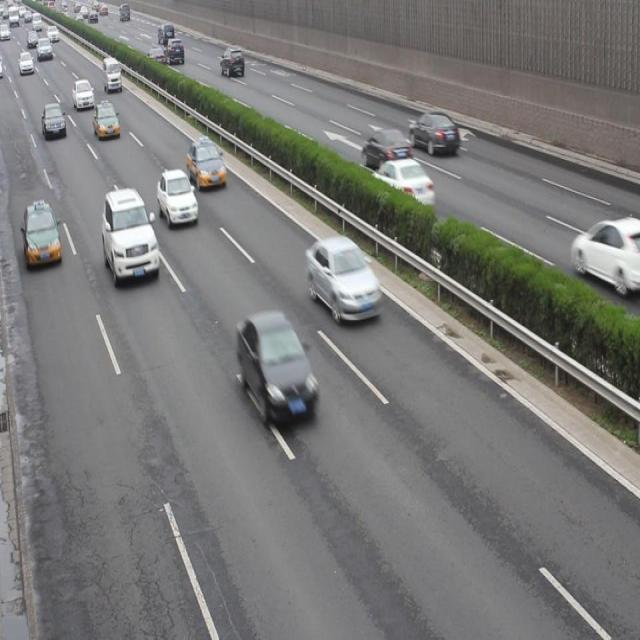car: (236, 309, 316, 426), (305, 232, 381, 324), (102, 186, 160, 285), (570, 215, 640, 293), (369, 158, 434, 208), (23, 199, 62, 272), (155, 167, 198, 228), (407, 109, 459, 158), (361, 127, 412, 170), (187, 138, 226, 190), (92, 101, 120, 141), (41, 101, 67, 142)
